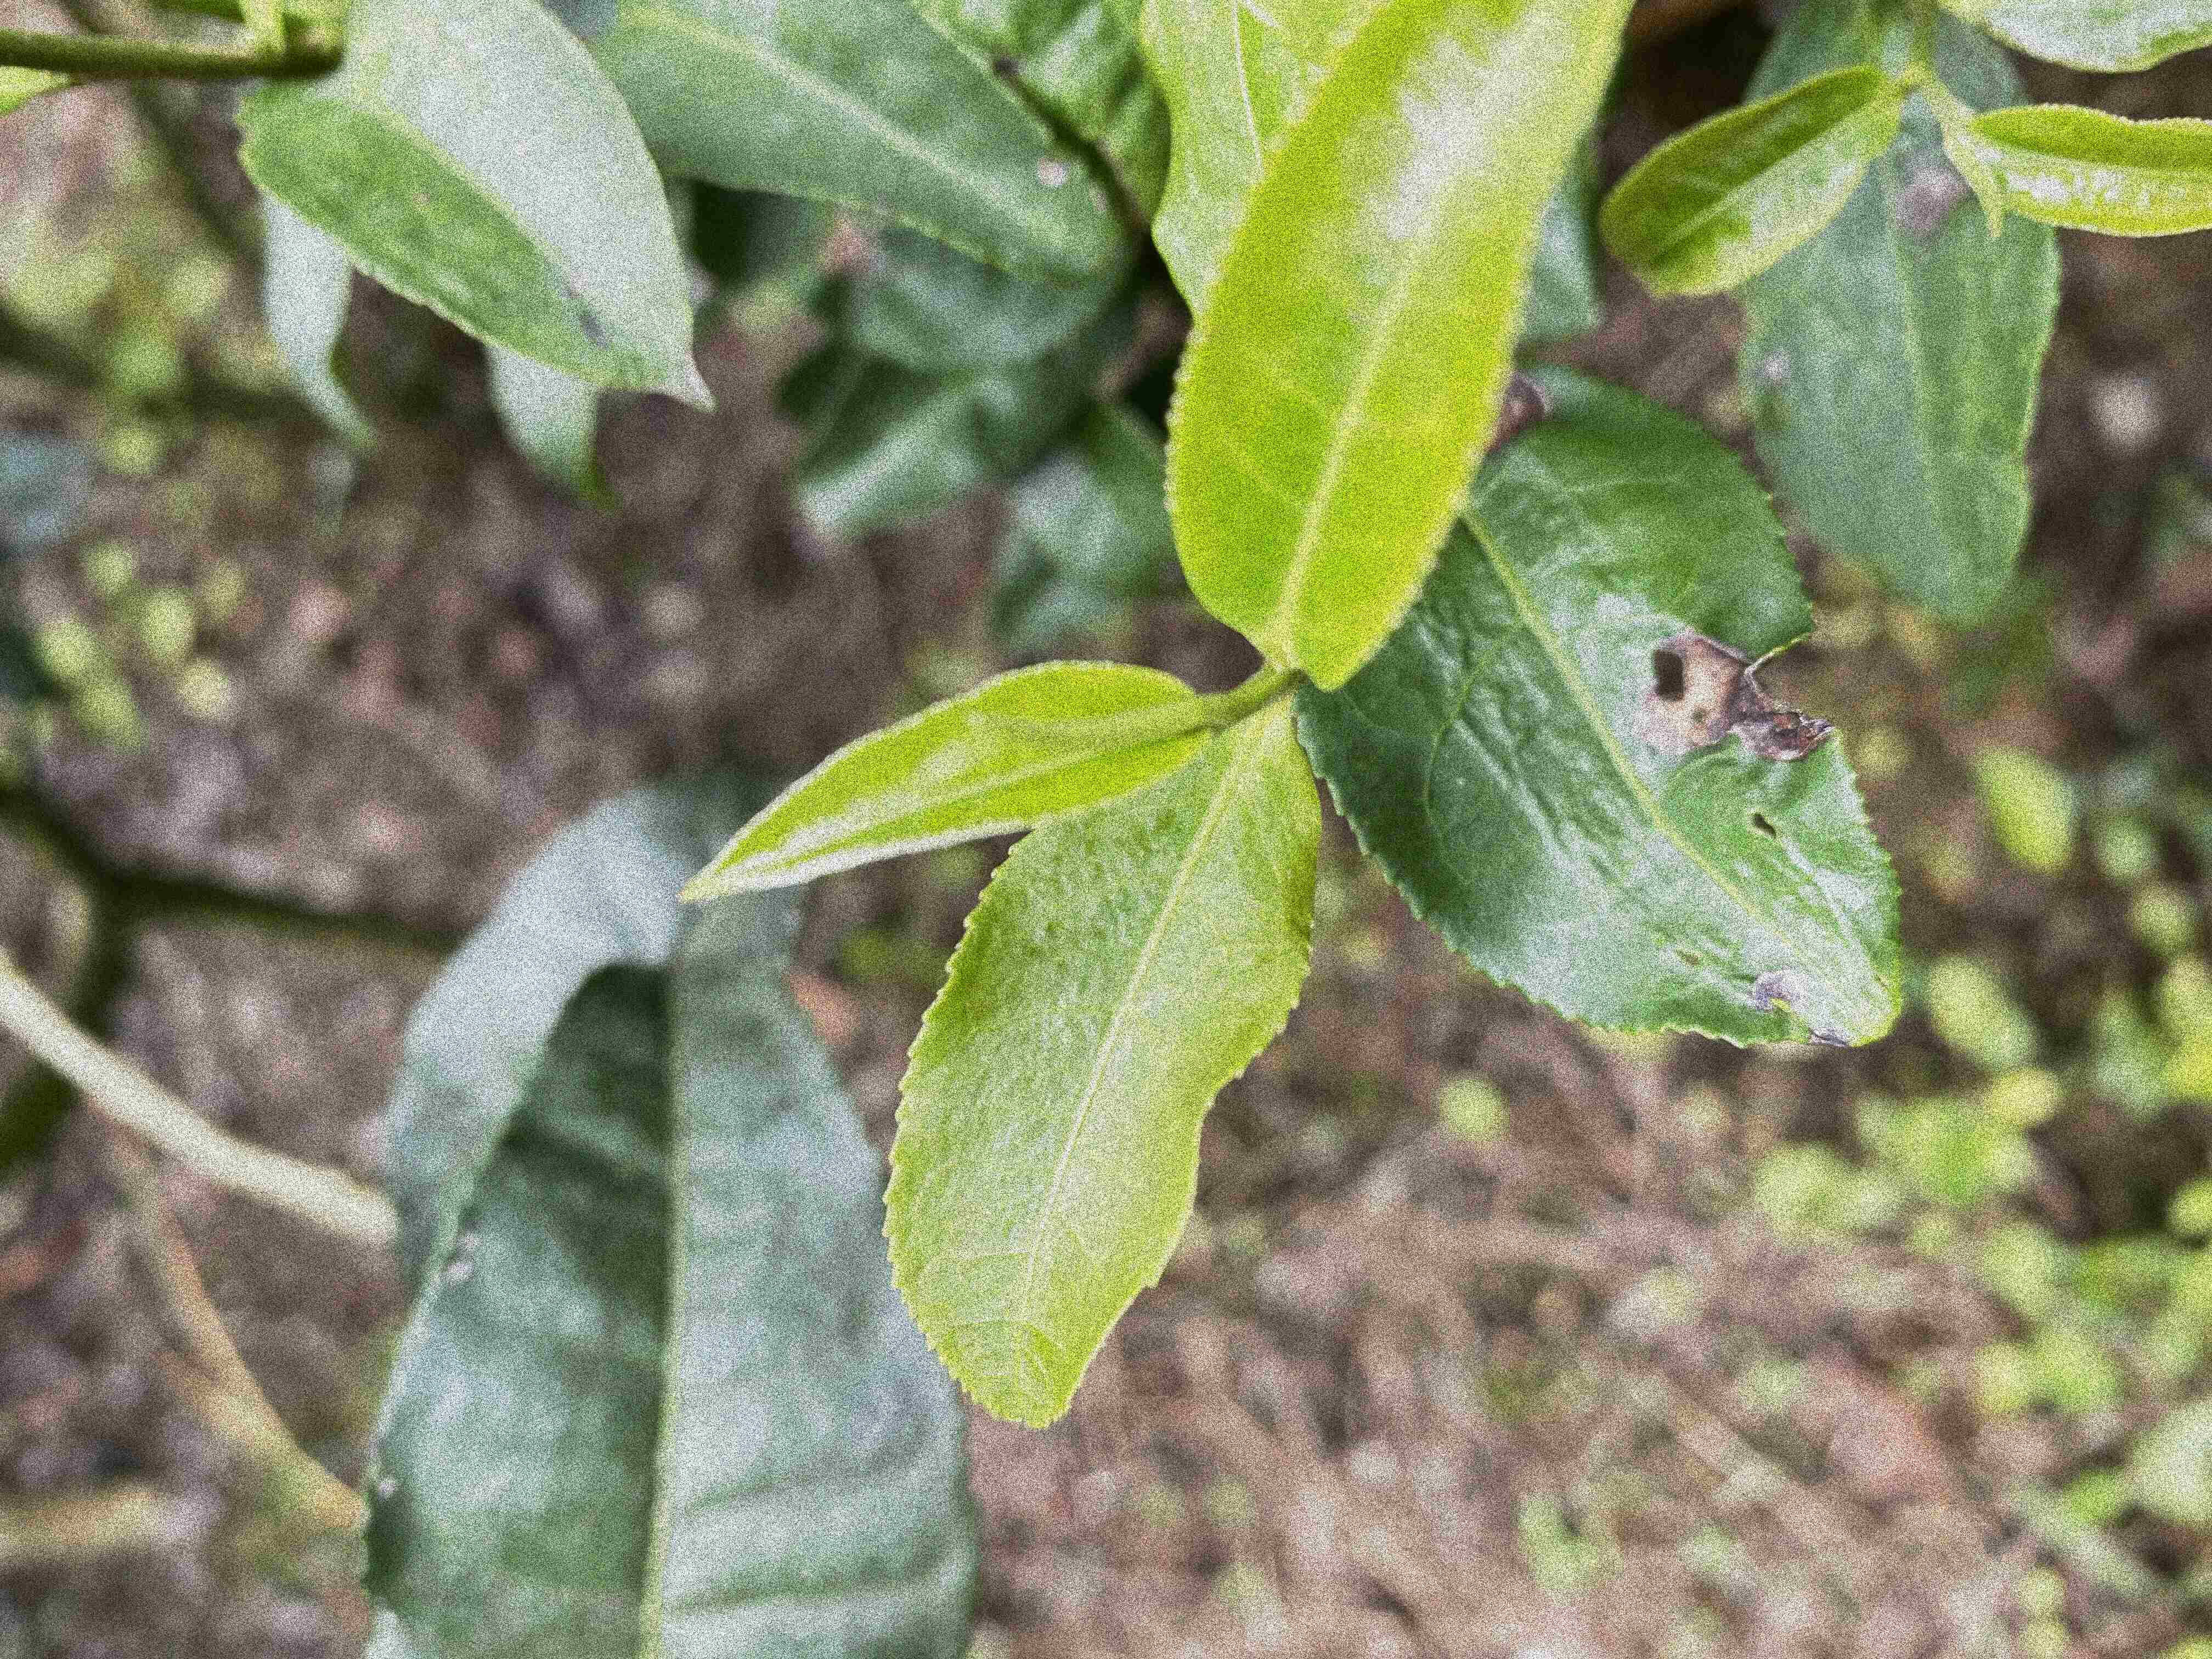healthy: (1157, 2, 1637, 697), (878, 714, 1324, 1431), (678, 655, 1207, 904), (1594, 61, 1909, 300), (1970, 101, 2212, 242)
tanju_high: (1291, 350, 1907, 1053), (1731, 7, 2066, 636)
